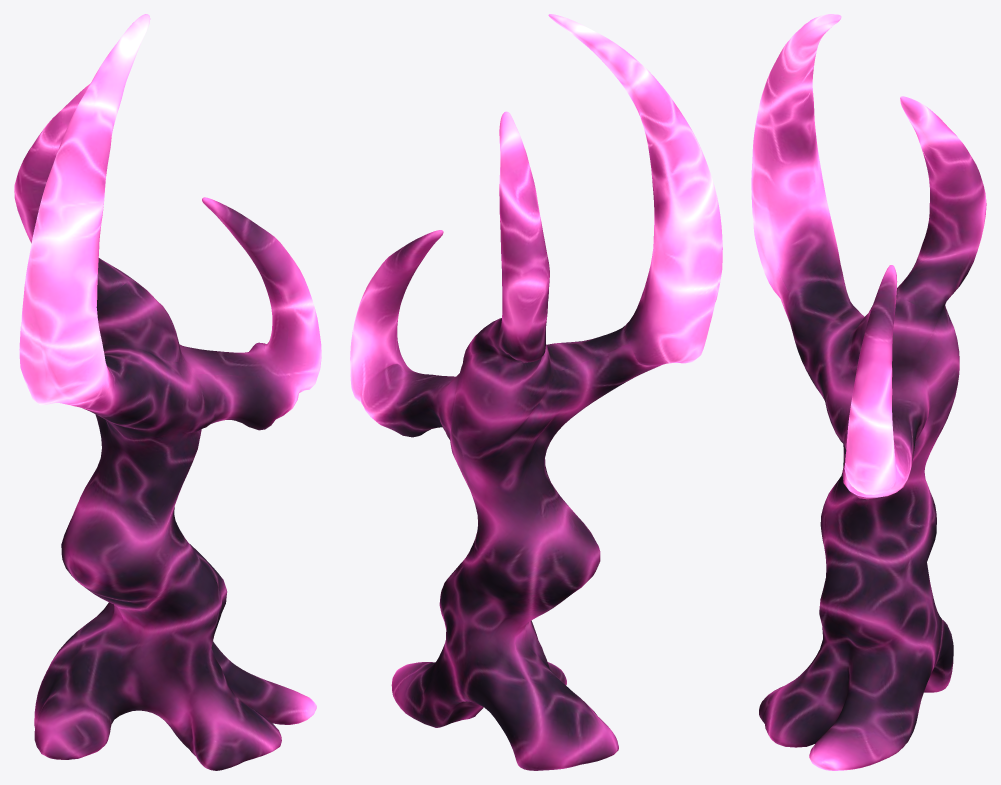
The model's file is caos_sts_clawplant_01c_chaos_v36.glb.
3 views of the same model, side by side, from view 1: azimuth 30°, elevation 25°; view 2: azimuth 150°, elevation 25°; view 3: azimuth 270°, elevation 25° (orthographic). The views are drawn at different scales.
Parts seen in each view (by area): view 1: caos_sts_clawplant_01c; view 2: caos_sts_clawplant_01c; view 3: caos_sts_clawplant_01c.
Part boxes in pixels (x1,y1,x2,y2): caos_sts_clawplant_01c: (14,14,321,770); caos_sts_clawplant_01c: (350,14,722,770); caos_sts_clawplant_01c: (751,14,986,770).
Size of the model in its own units: 2.82 by 5.97 by 1.85.
1 material, 1 textured.
